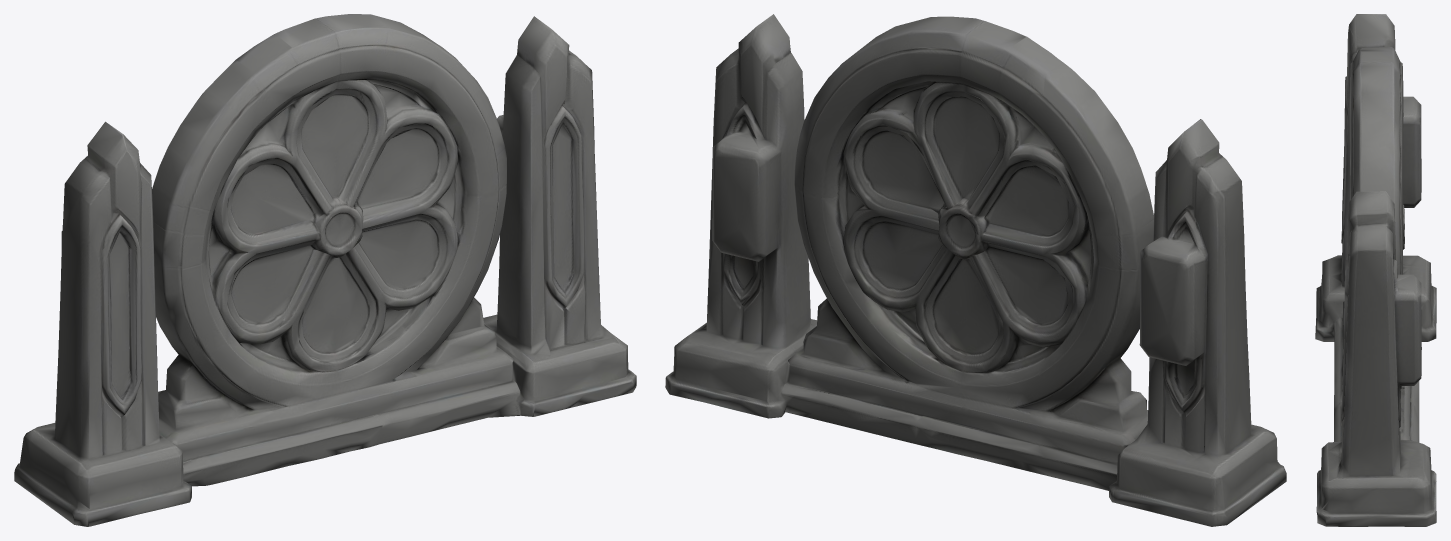
File: terminus-threshold.glb
3 renders of one model, left to right at view 1: azimuth 30°, elevation 25°; view 2: azimuth 150°, elevation 25°; view 3: azimuth 270°, elevation 25°, orthographic. The views are drawn at different scales.
Parts seen in each view (by area): view 1: tripo_node_db0f4954-488f-48f1-9537-c90224dec836; view 2: tripo_node_db0f4954-488f-48f1-9537-c90224dec836; view 3: tripo_node_db0f4954-488f-48f1-9537-c90224dec836.
Boxes of the visible parts, x1=… form: tripo_node_db0f4954-488f-48f1-9537-c90224dec836: x1=14, y1=14, x2=636, y2=526; tripo_node_db0f4954-488f-48f1-9537-c90224dec836: x1=665, y1=14, x2=1286, y2=526; tripo_node_db0f4954-488f-48f1-9537-c90224dec836: x1=1315, y1=14, x2=1436, y2=526.
Bounding box in the file's own units: 0.9786 × 0.6798 × 0.215.
1 material, 1 textured.
